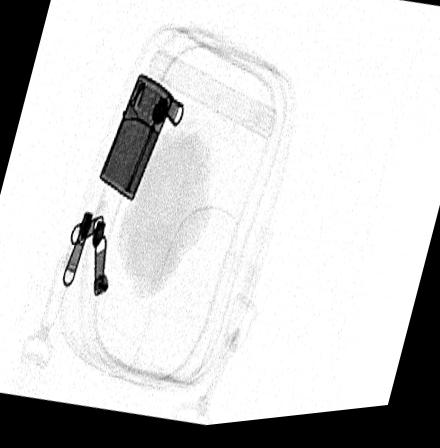Lighter: (97, 77, 173, 205)
